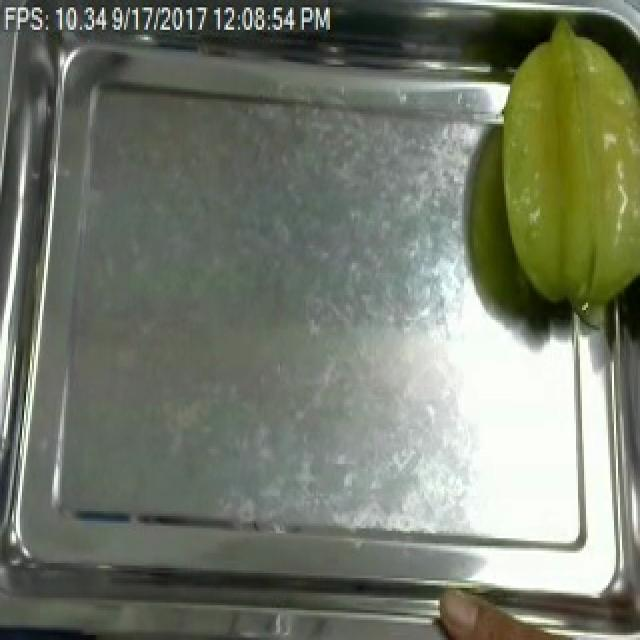fruit: (486, 18, 640, 322)
